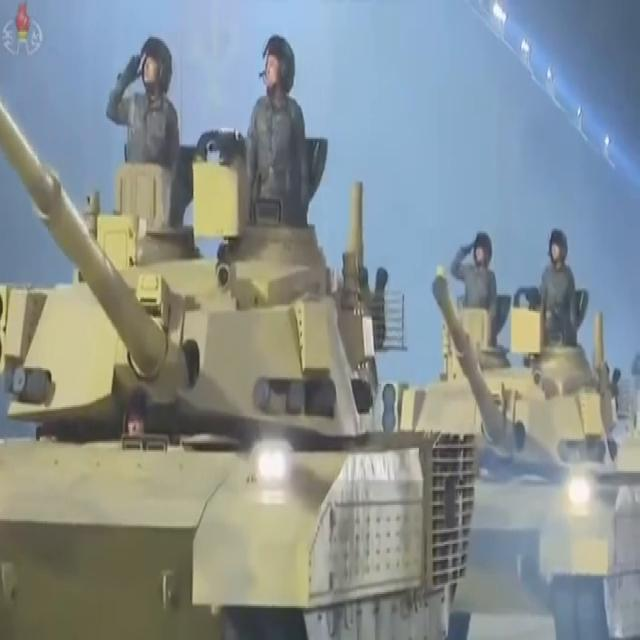north tank: (1, 72, 518, 640), (403, 233, 639, 640)
